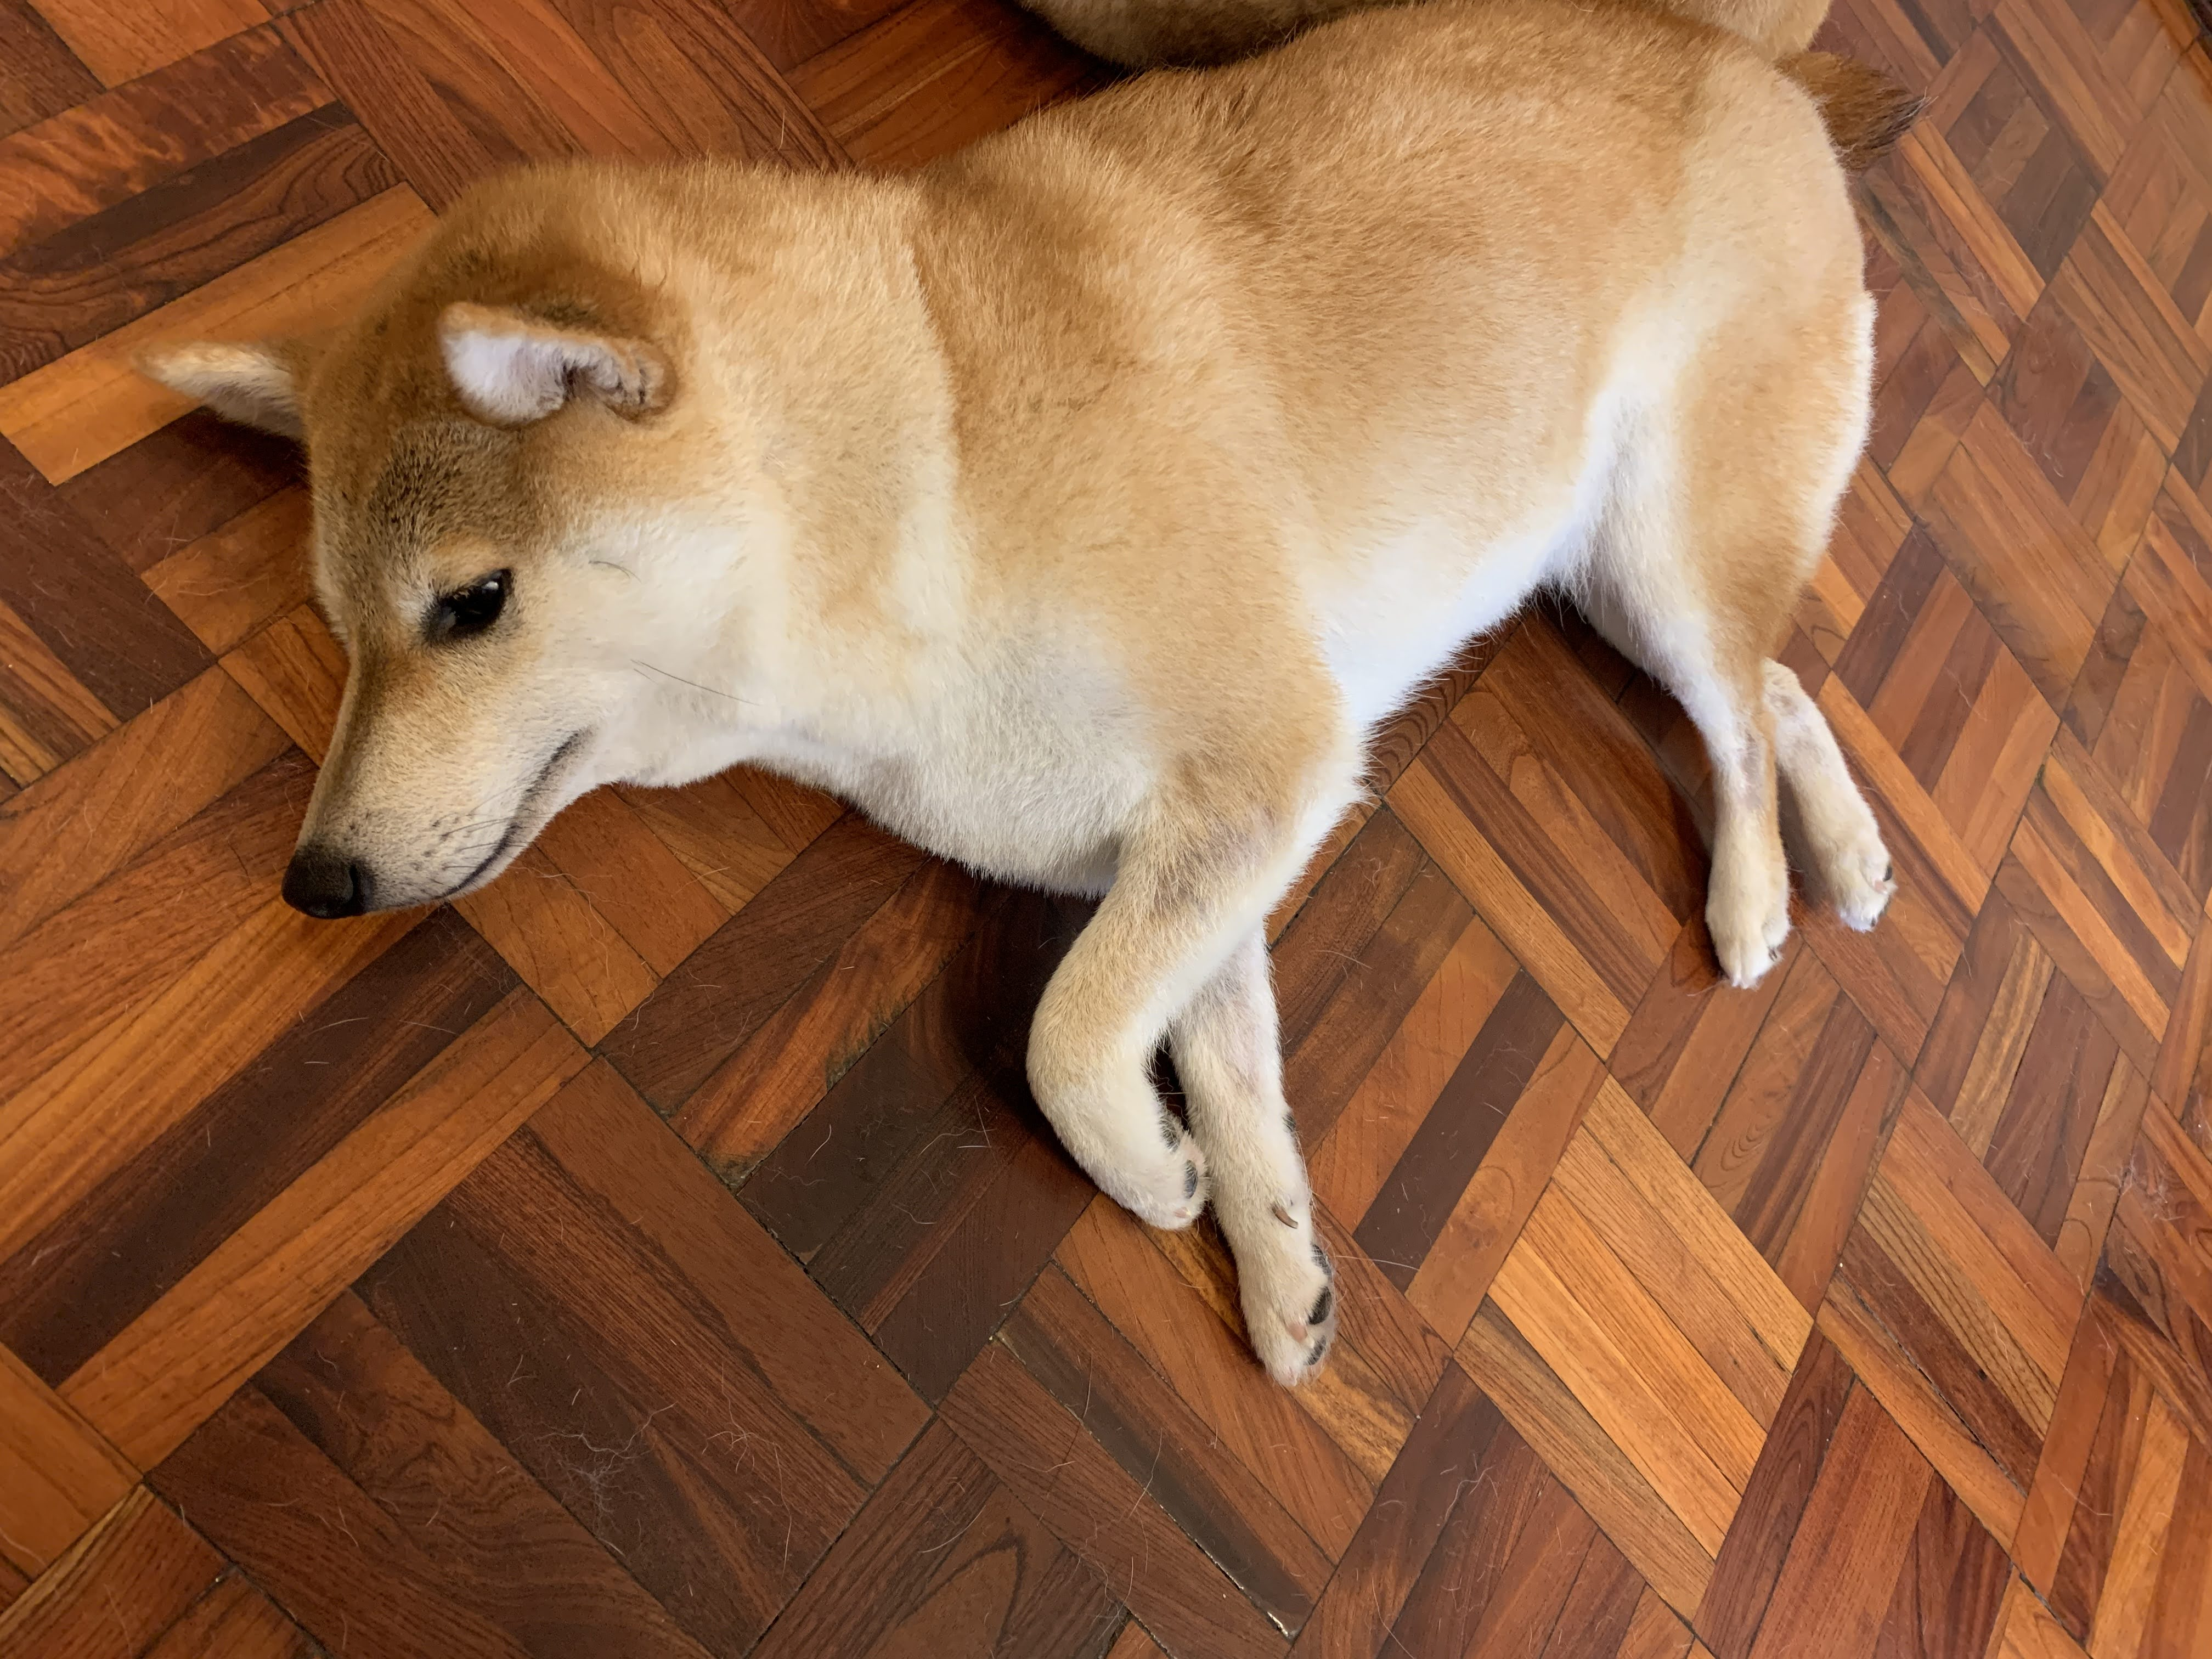Lie down: (120, 19, 2090, 1370)
